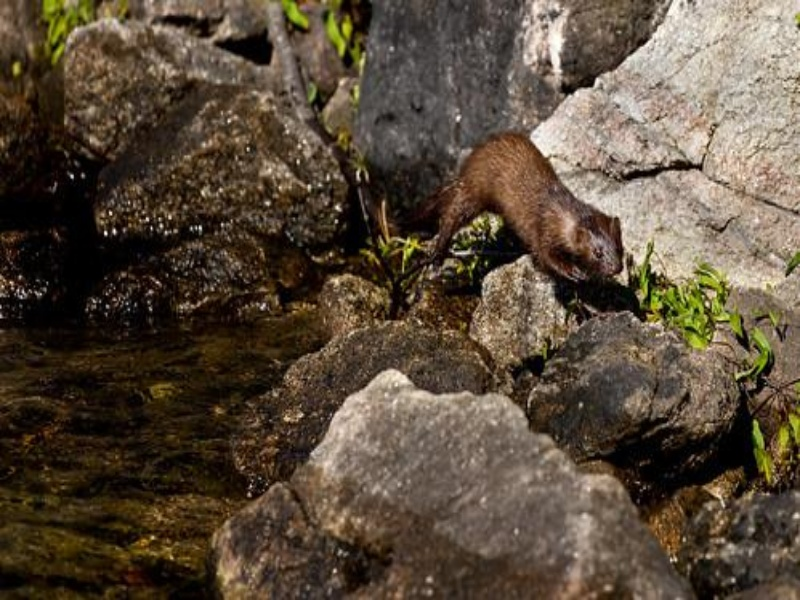minkish: (439, 131, 631, 289)
